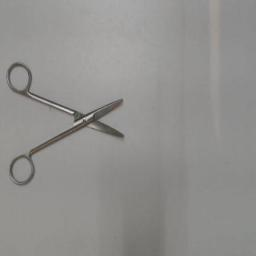Curved Mayo Scissors: (4, 57, 126, 191)
